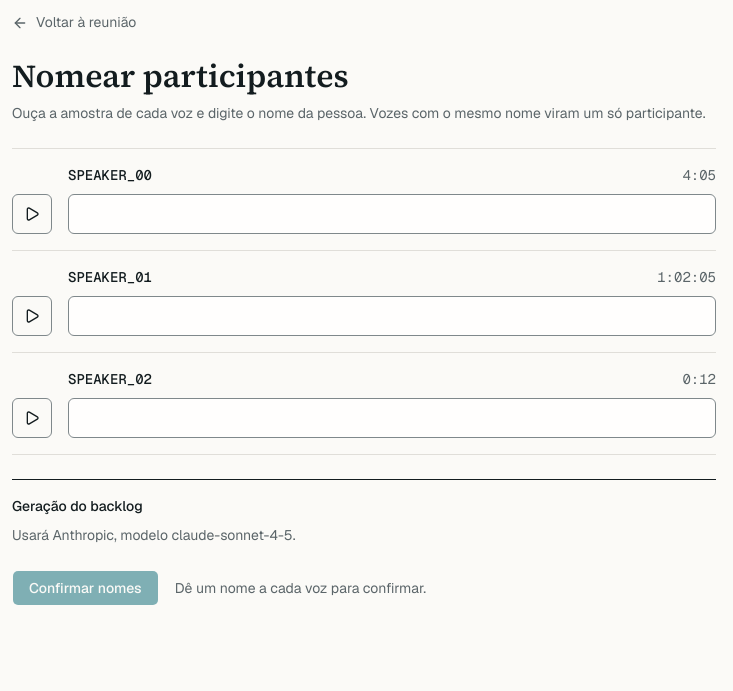
Test: avisa quando a amostra não toca
Click the button named "Ouvir amostra de SPEAKER_00" at (32, 214), box [12,194,52,234]
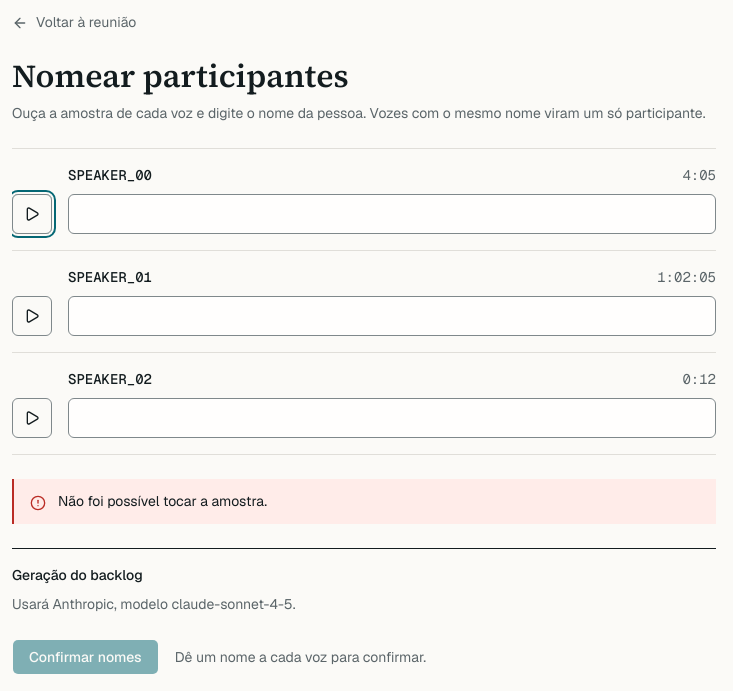
Expected: the message reads "Não foi possível tocar a amostra.", [58,492,267,510]
